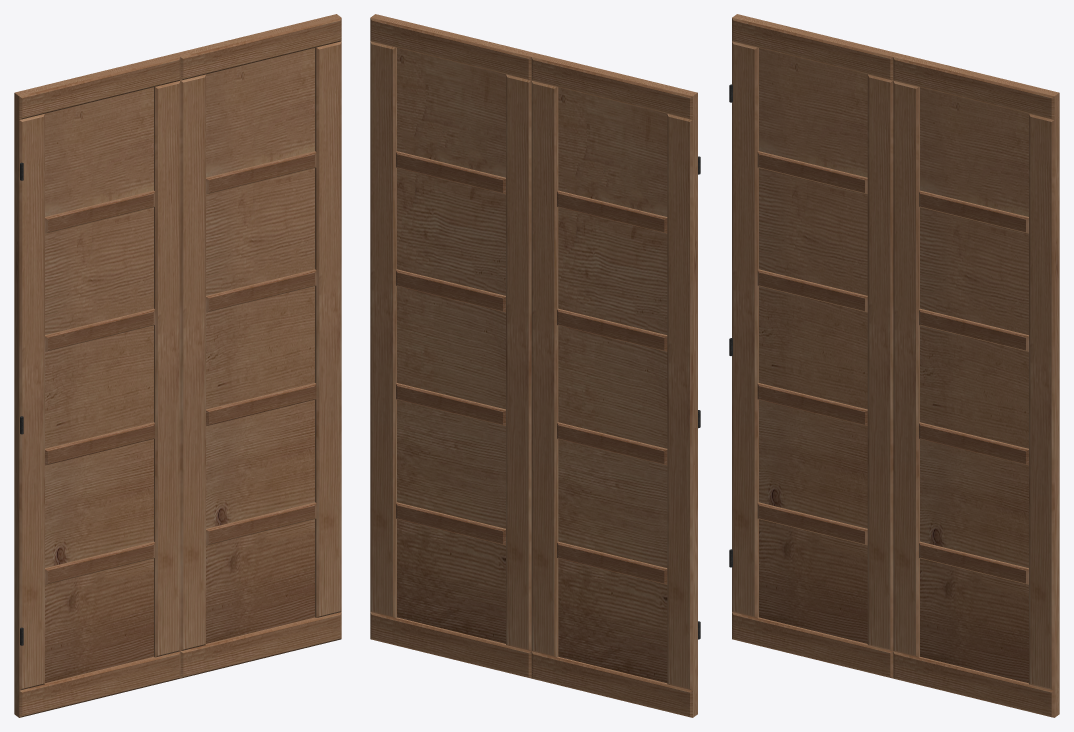
Rendered from SM_Yeonkyung_Sooinmoon_Door_C_001.fbx.
3 renders of one model, left to right at view 1: azimuth 30°, elevation 25°; view 2: azimuth 150°, elevation 25°; view 3: azimuth 330°, elevation 25°, orthographic.
Visible parts, largest first — view 1: SM_Yeonkyung_Sooinmoon_Door_C_001; view 2: SM_Yeonkyung_Sooinmoon_Door_C_001; view 3: SM_Yeonkyung_Sooinmoon_Door_C_001.
Part boxes in pixels (bbox=[...]): SM_Yeonkyung_Sooinmoon_Door_C_001: bbox=[14, 14, 341, 717]; SM_Yeonkyung_Sooinmoon_Door_C_001: bbox=[370, 14, 700, 717]; SM_Yeonkyung_Sooinmoon_Door_C_001: bbox=[729, 14, 1059, 717].
Size of the model in its own units: 117 by 215 by 5.33.
